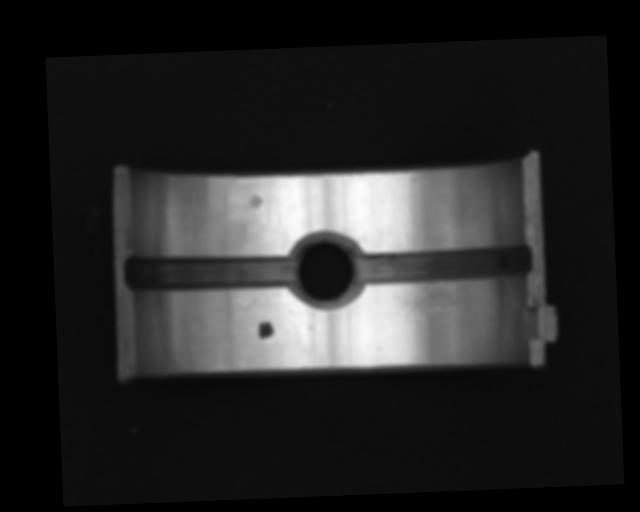blot: (257, 319, 274, 339)
bruise: (247, 193, 263, 210)
gap: (355, 243, 534, 285), (124, 252, 296, 294)
hole: (287, 234, 362, 307)
nick: (391, 190, 405, 246)
scratch: (401, 281, 481, 325)
